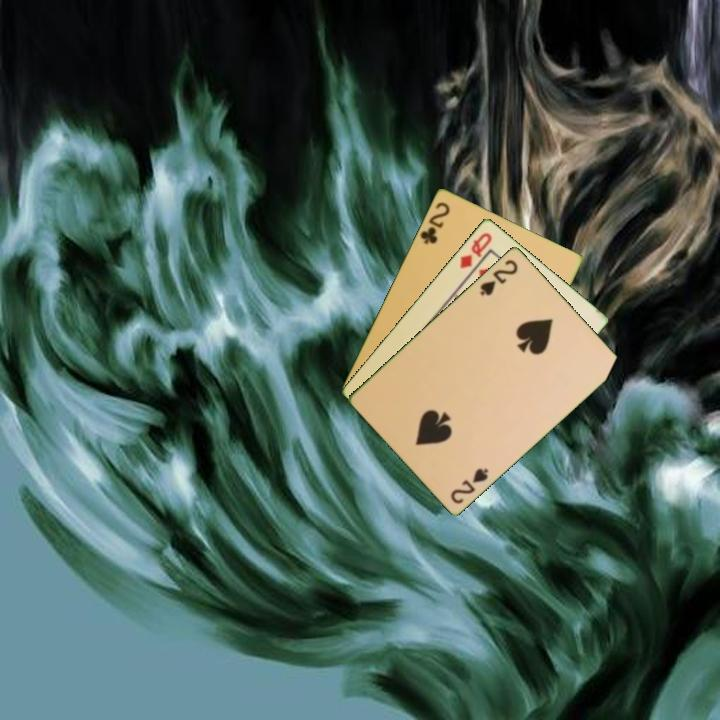2c: (416, 198, 453, 247)
2s: (476, 255, 520, 298), (447, 464, 491, 506)
Qd: (456, 228, 495, 271)
